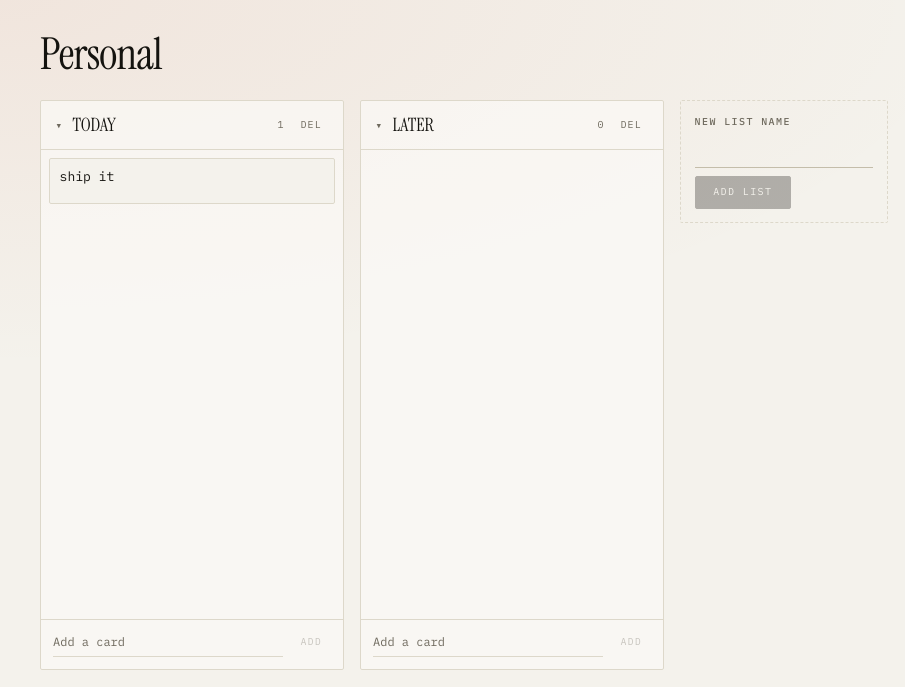
it: only the toggled list collapses, and the choice is stored per board
Step 1. Click the button named "Collapse list TODAY" → x=59, y=125, box [51,113,67,137]
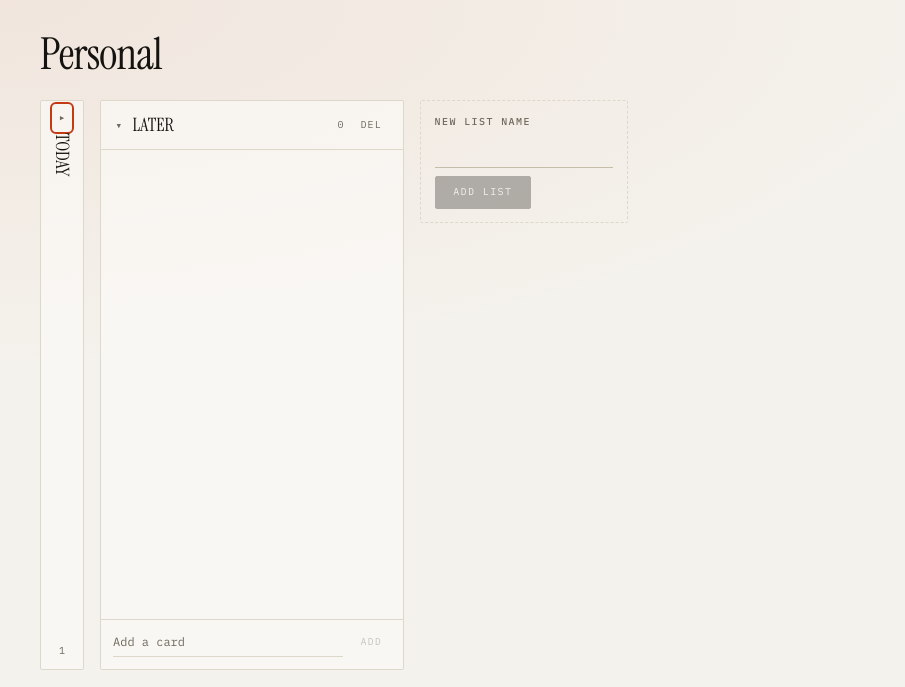
Expected: the button named "Collapse list LATER" is shown, [111,113,127,137]
Expected: the button named "Expand list TODAY" is shown, [54,106,70,130]
